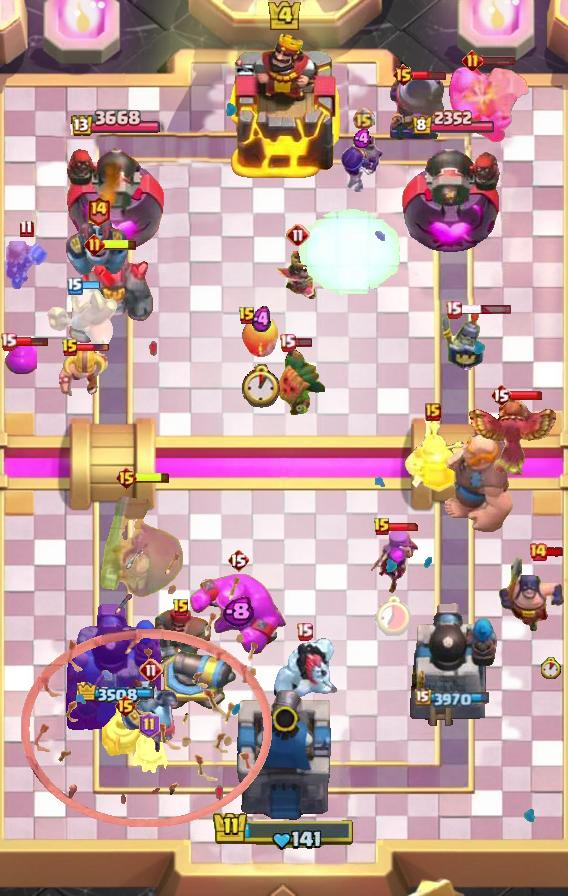archer-queen: (445, 65, 533, 145)
balloon: (443, 426, 517, 534)
bat: (128, 730, 170, 774)
bomber-evolution: (275, 251, 321, 303)
cannoneer-tower: (68, 250, 154, 346)
clock: (212, 810, 356, 852)
clone: (188, 572, 288, 656)
earthquake: (402, 419, 464, 495)
electro-spirit: (222, 596, 254, 628), (253, 307, 272, 334), (353, 129, 373, 147)
elixir: (241, 364, 284, 408), (374, 594, 414, 636), (541, 657, 561, 679)
elixir-golem-small: (121, 676, 181, 754), (64, 217, 132, 279)
emote: (460, 304, 512, 315), (102, 237, 138, 250), (135, 471, 171, 484), (480, 54, 516, 66), (412, 69, 447, 81), (13, 336, 49, 347), (509, 390, 543, 401), (76, 343, 110, 353), (389, 522, 421, 532), (546, 546, 565, 558), (81, 280, 100, 291), (294, 336, 313, 347)
freeze: (42, 283, 128, 353)
goblin-ball: (341, 127, 385, 193)
goblin-barrel: (269, 345, 327, 421)
goblin-cage: (387, 73, 451, 143)
goblin-drill: (102, 708, 148, 764)
goblin-giant: (56, 346, 110, 400)
golden-knight: (464, 399, 560, 477)
hog: (241, 315, 281, 359)
hog-rider: (2, 241, 50, 291)
king-tower: (226, 33, 342, 181), (232, 686, 336, 826)
mega-knight: (297, 207, 403, 301)
miner: (5, 344, 37, 374)
monk: (498, 553, 568, 633)
phoenix-small: (147, 608, 215, 666)
princess: (439, 308, 487, 370)
rage: (270, 636, 338, 706)
rascal-girl: (368, 527, 420, 597)
royal-recruit: (156, 649, 238, 719)
selected: (68, 110, 160, 139), (412, 111, 497, 138), (74, 682, 154, 704), (416, 688, 493, 708)
skeleton-barrel: (19, 547, 272, 827)
text: (85, 195, 110, 225), (286, 223, 310, 247), (114, 466, 138, 490), (139, 658, 163, 682), (114, 694, 138, 718), (393, 63, 416, 87), (140, 712, 161, 738), (352, 106, 375, 129), (490, 383, 512, 407), (227, 548, 249, 572), (83, 233, 105, 254), (462, 49, 483, 70), (528, 542, 548, 562), (238, 306, 256, 326), (61, 338, 79, 358), (373, 517, 391, 537), (172, 598, 190, 618), (279, 332, 296, 351), (446, 301, 463, 319), (295, 623, 312, 641), (0, 332, 16, 351), (67, 277, 83, 295), (425, 403, 441, 421), (19, 218, 34, 237)
tower-bar: (64, 601, 164, 731), (401, 138, 505, 256), (63, 138, 164, 256), (408, 599, 498, 731)
wall-breaker-evolution: (99, 482, 183, 600)
